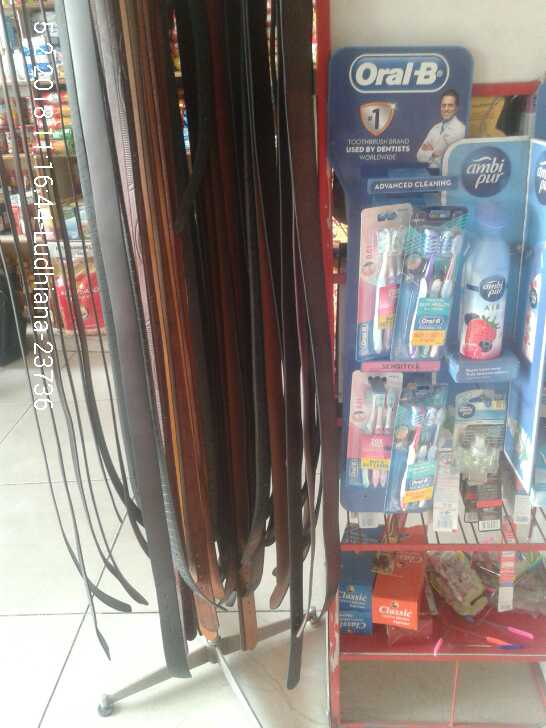home: (454, 215, 516, 370)
pharmacy: (407, 221, 459, 358), (400, 398, 459, 515), (348, 385, 394, 513), (365, 221, 393, 357)
